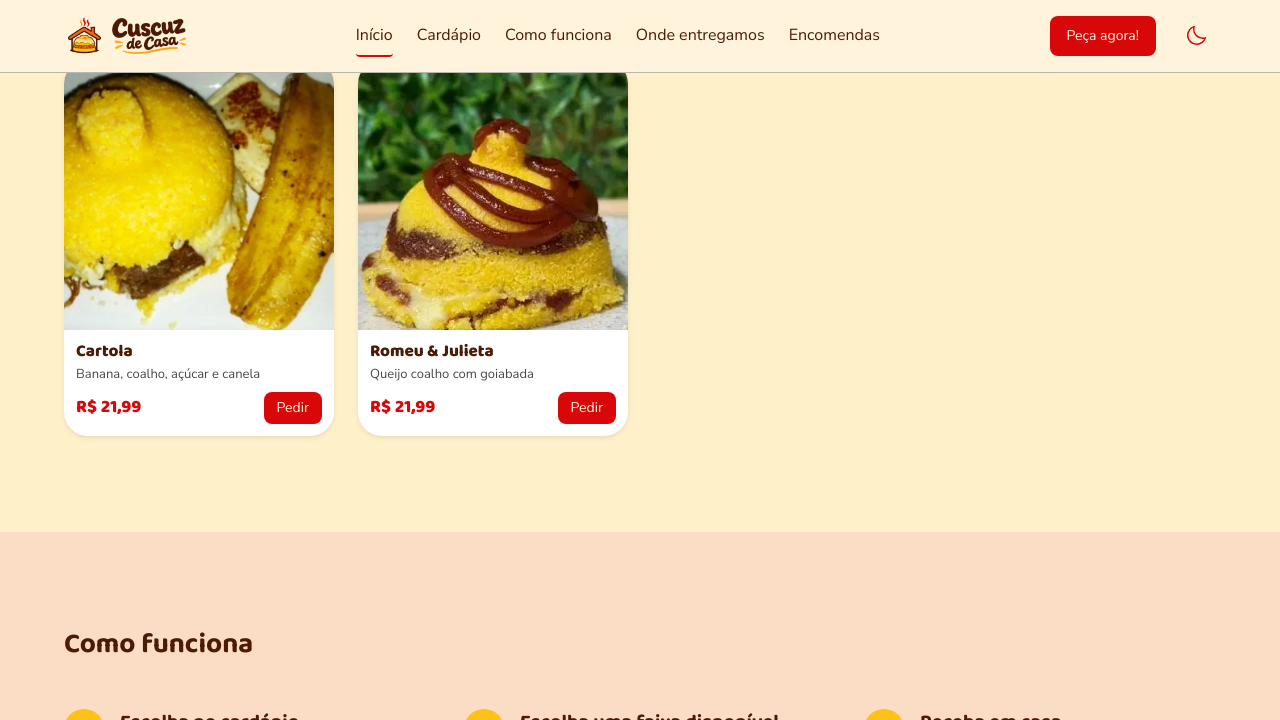
Scenario: navegação do cardápio (seção #cardapio da Home) › ao voltar de um item, a grade e a categoria escolhidas são mantidas e a tela volta ao cardápio
This screenshot has width=1280, height=720.
(page scrolled)
Click the link "Cartola": (104, 351) [76,338,133,365]
(page scrolled)
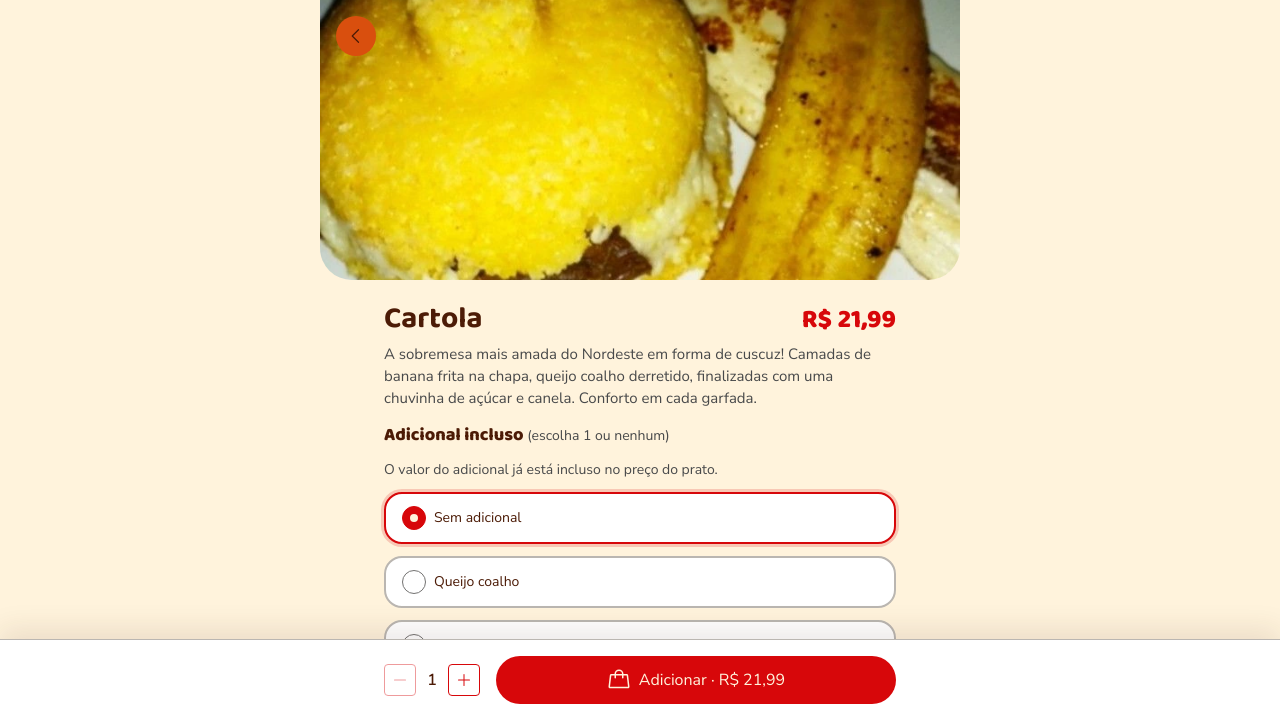
Click the link named "Voltar ao cardápio": (356, 36) [336,16,376,56]
(page scrolled)
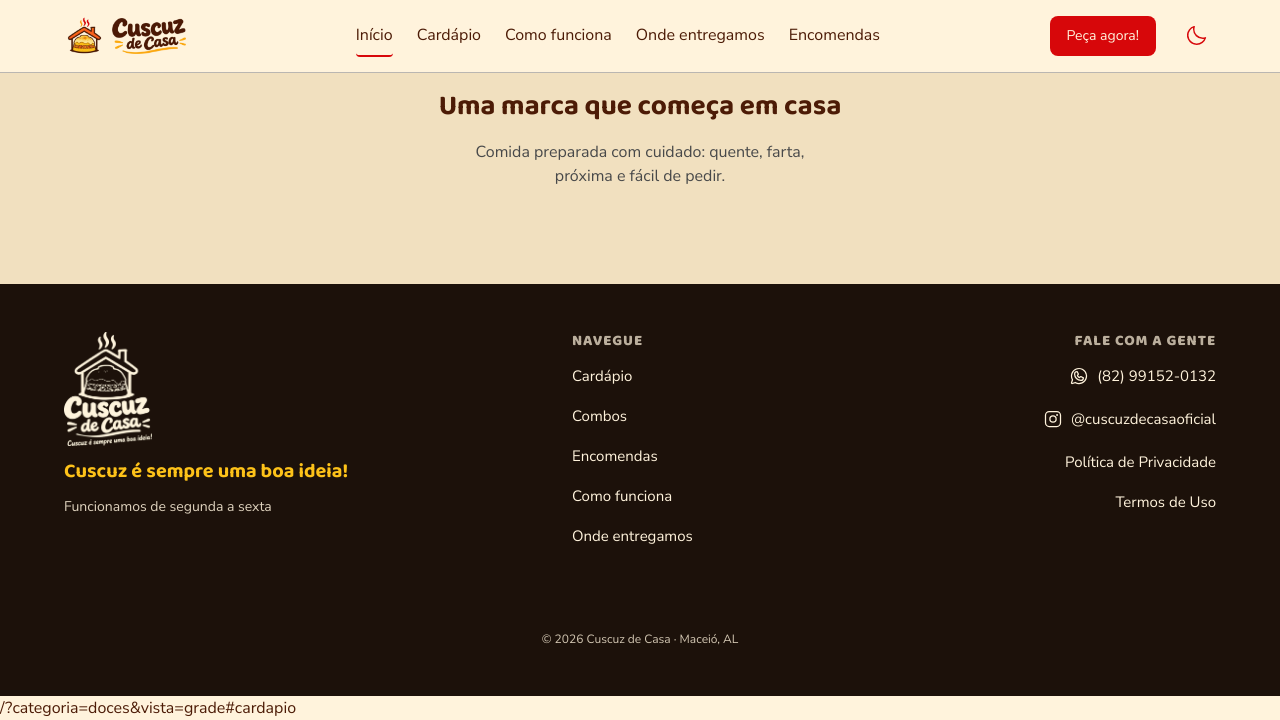
Now the text with test id "local" reads "/?categoria=doces&vista=grade#cardapio", box [0,697,296,719]
